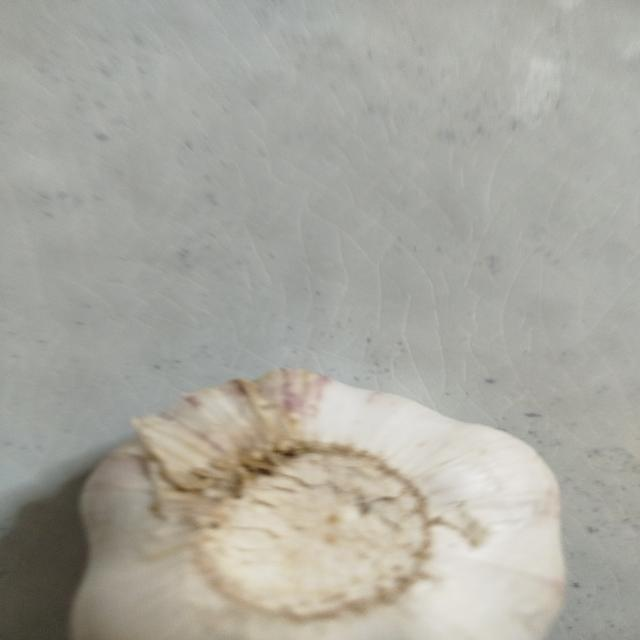garlic: (69, 366, 566, 639)
